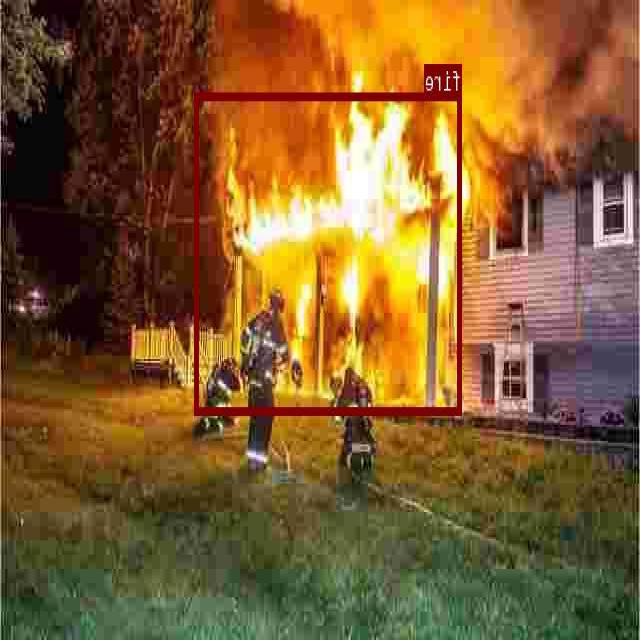fire: (196, 92, 463, 414)
